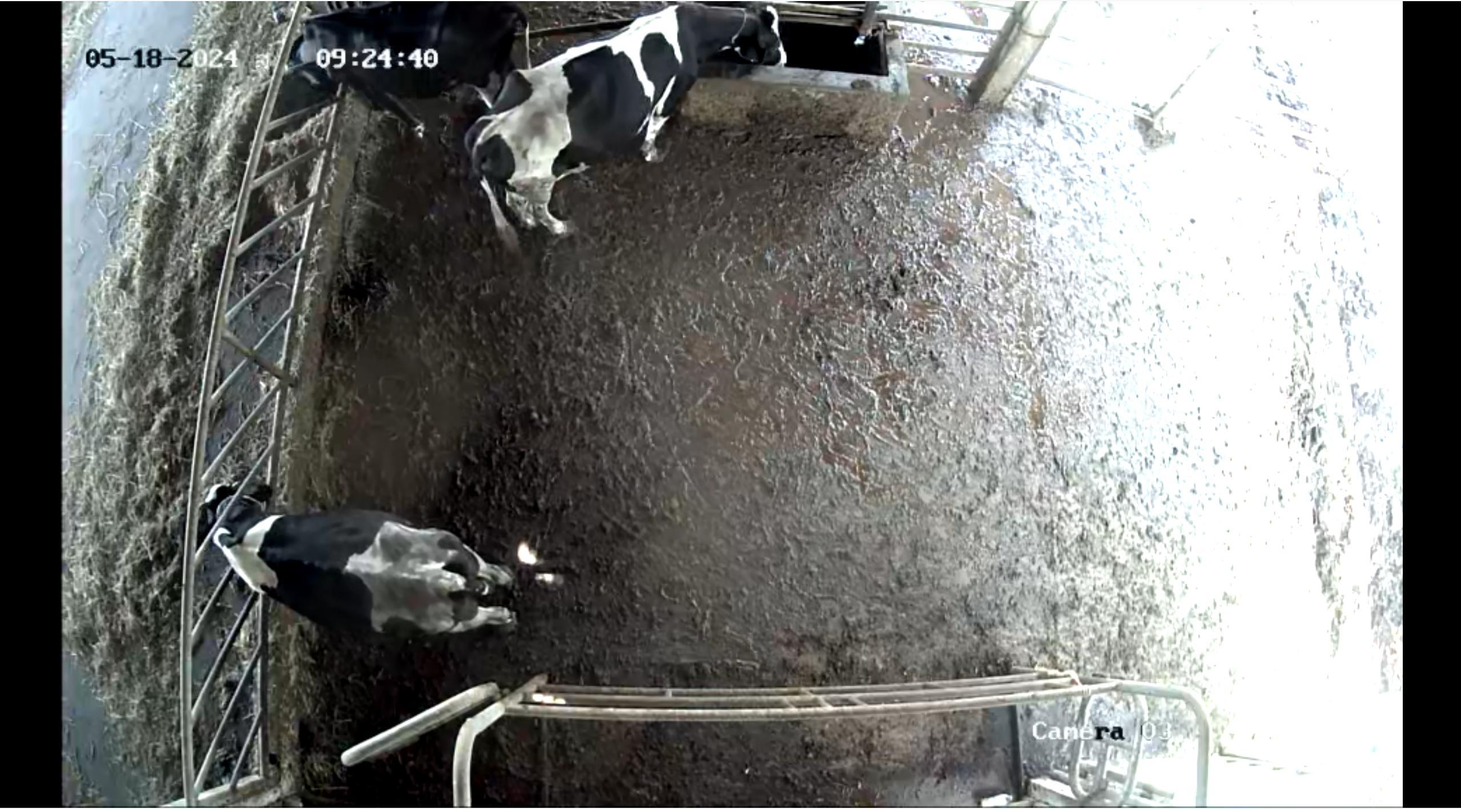drink: (673, 0, 803, 134)
eat: (241, 6, 393, 123), (148, 464, 285, 575)
